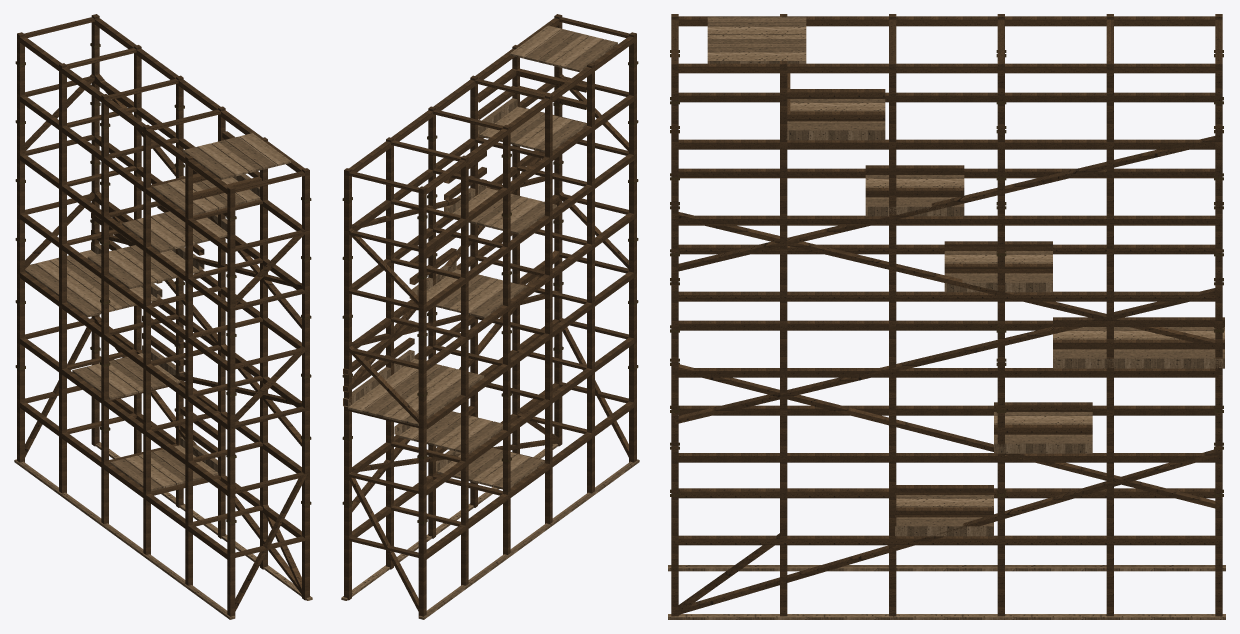
Rendered from bldg-scaffold-run.glb.
3 renders of one model, left to right at view 1: azimuth 30°, elevation 25°; view 2: azimuth 150°, elevation 25°; view 3: azimuth 270°, elevation 25°, orthographic. The views are drawn at different scales.
Parts seen in each view (by area): view 1: bldg-scaffold-run; view 2: bldg-scaffold-run; view 3: bldg-scaffold-run.
Boxes of the visible parts, <box> form: bldg-scaffold-run: <box>14,14,312,619</box>; bldg-scaffold-run: <box>341,14,639,619</box>; bldg-scaffold-run: <box>668,14,1225,619</box>.
Bounding box in the file's own units: 2.5 × 12.4 × 11.3.
3 materials, 3 textured.
